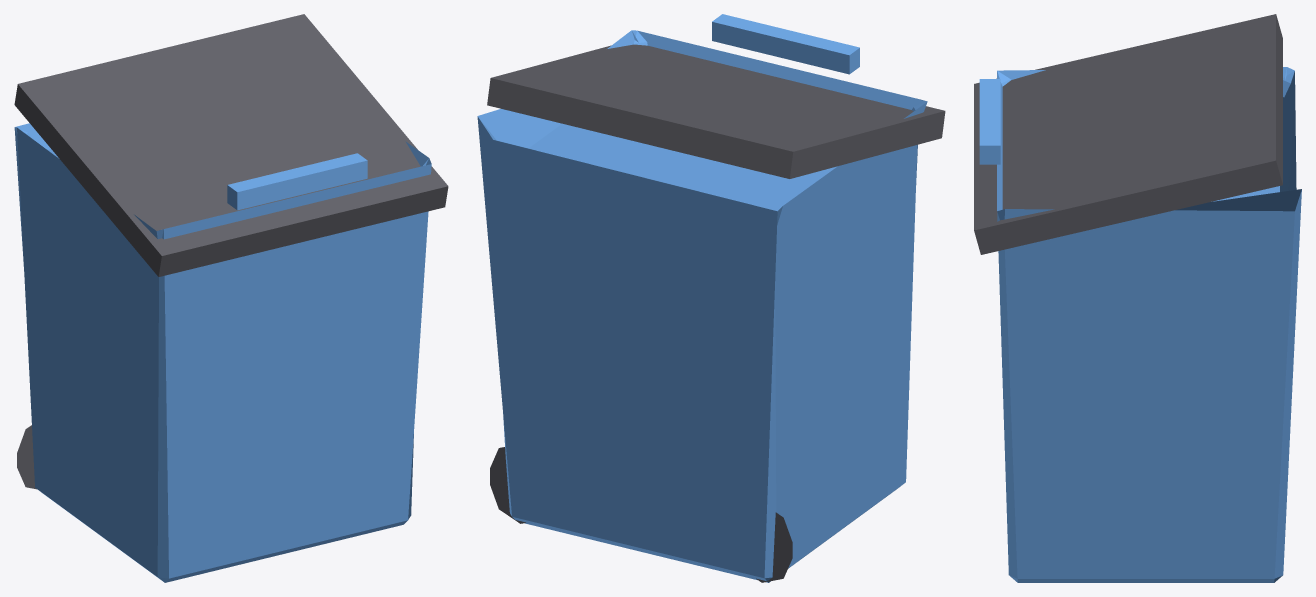
File: bin_plastic.glb
3 renders of one model, left to right at view 1: azimuth 30°, elevation 25°; view 2: azimuth 150°, elevation 25°; view 3: azimuth 270°, elevation 25°, orthographic. The views are drawn at different scales.
Parts seen in each view (by area): view 1: bin_plastic; view 2: bin_plastic; view 3: bin_plastic.
Part boxes in pixels (x1=…): bin_plastic: x1=14, y1=14, x2=448, y2=582; bin_plastic: x1=477, y1=14, x2=945, y2=582; bin_plastic: x1=974, y1=14, x2=1301, y2=582.
Bounding box in the file's own units: 0.9902 × 1.37 × 0.9361.
